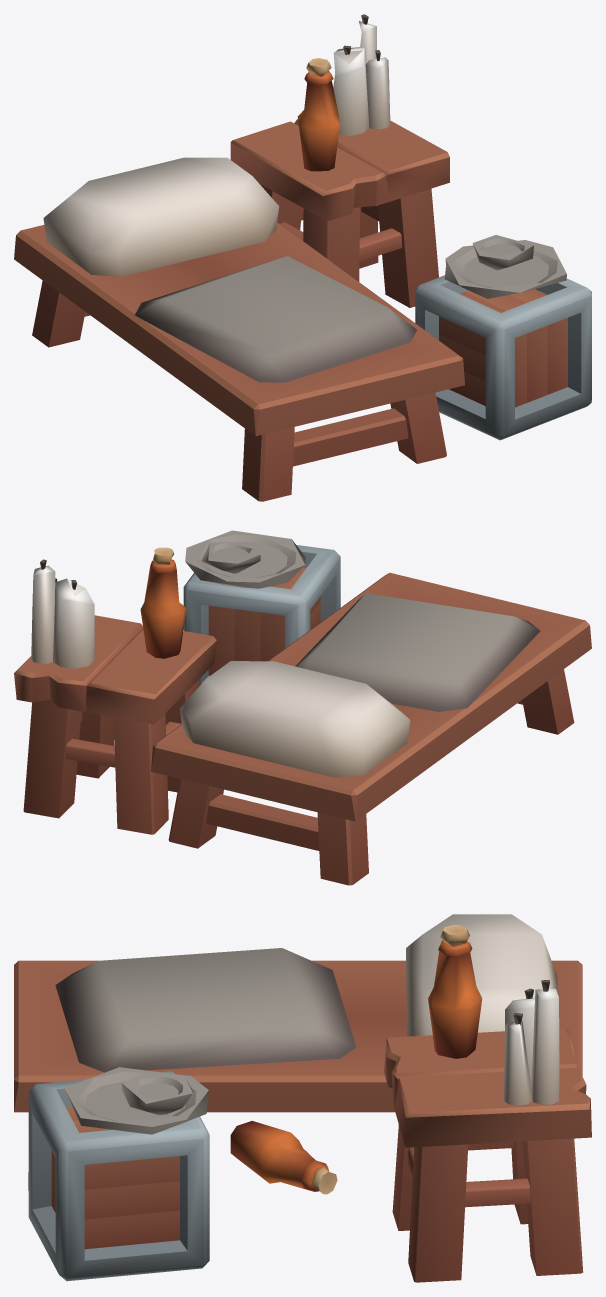
Rendered from cc0-bed-decorated-lod1.glb.
3 renders of one model, top to bottom at view 1: azimuth 30°, elevation 25°; view 2: azimuth 150°, elevation 25°; view 3: azimuth 270°, elevation 25°, orthographic. The views are drawn at different scales.
Parts seen in each view (by area): view 1: part_0; view 2: part_0; view 3: part_0.
Part boxes in pixels (bbox=[...]): part_0: bbox=[14, 14, 591, 501]; part_0: bbox=[14, 530, 591, 885]; part_0: bbox=[14, 914, 591, 1282].
Size of the model in its own units: 2.58 by 1.7 by 3.05.
1 material, 1 textured.
